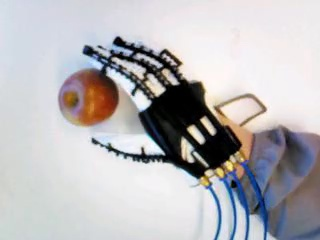apple: (55, 64, 119, 125)
hand: (81, 35, 244, 188)
